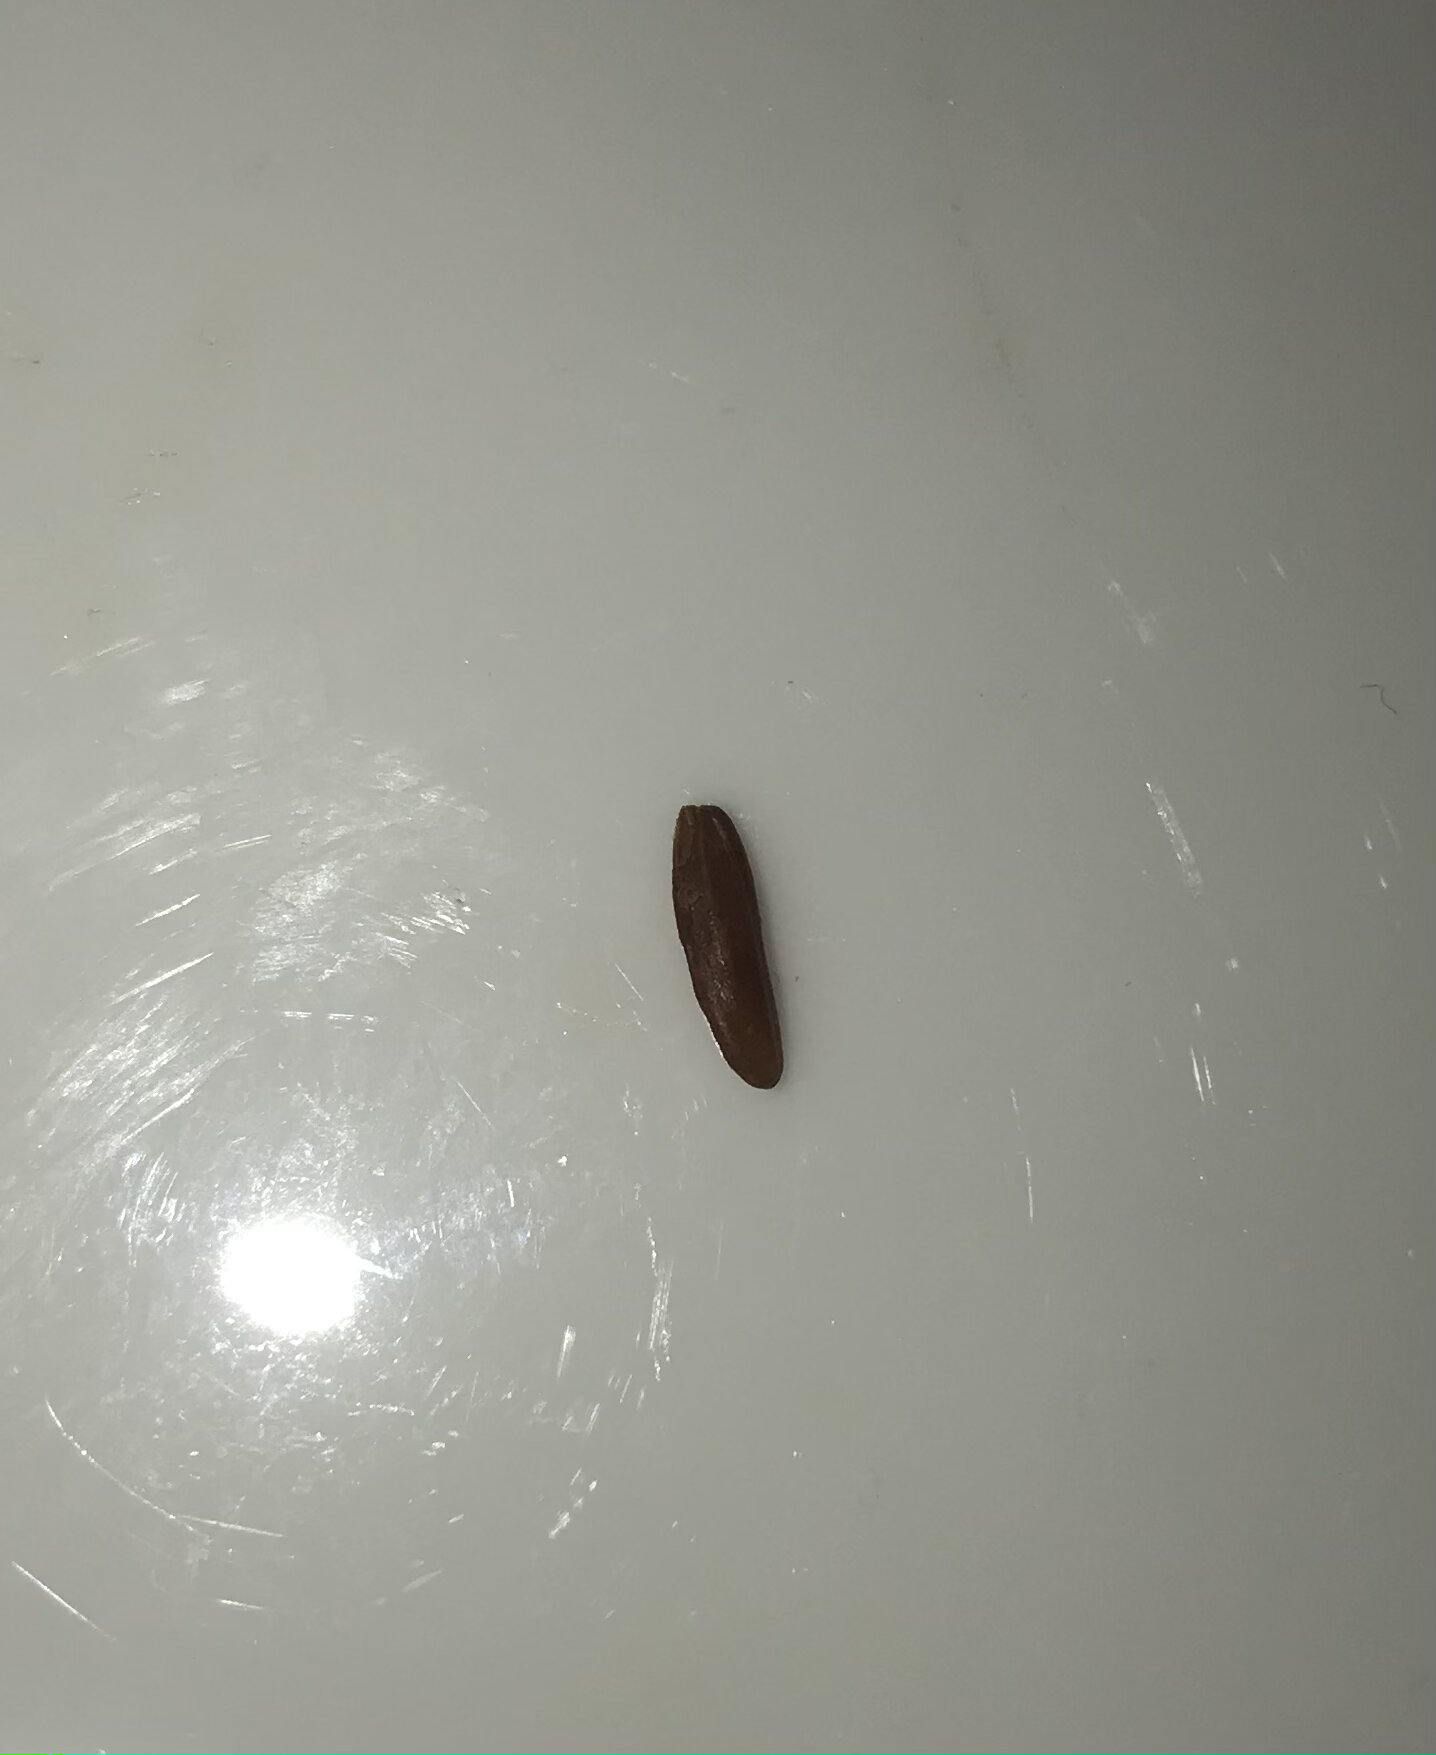Gao Huyet Rong: (643, 794, 819, 1101)
